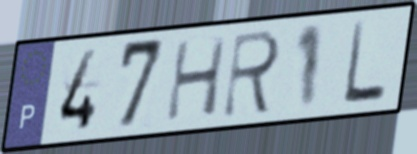1: (291, 21, 323, 115)
4: (55, 47, 99, 134)
7: (117, 36, 166, 134)
H: (163, 33, 230, 124)
L: (340, 18, 389, 108)
R: (219, 26, 285, 121)
